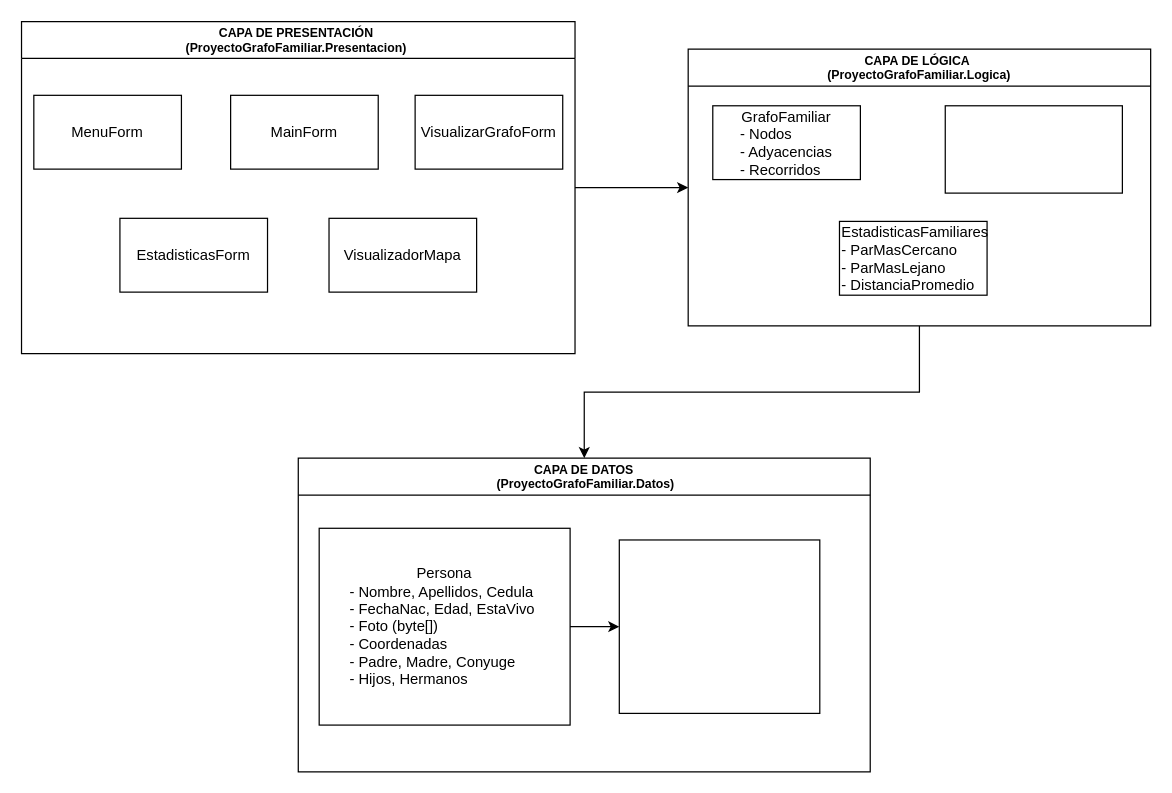
This 1172x793 diagram has some shape labels left out. Each missing label, with the centre of its shape:
"CalculadoraDistancia - Haversine - RadioTierrakm" belongs at [1033,149].
"Coordenada - Latitud (double) - Longitud (double) - EsValida()" belongs at [719,626].
